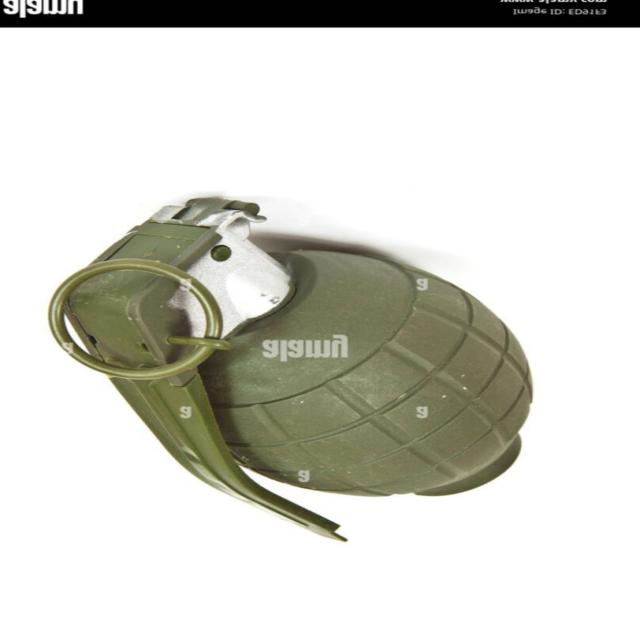grenade: (48, 199, 533, 544)
